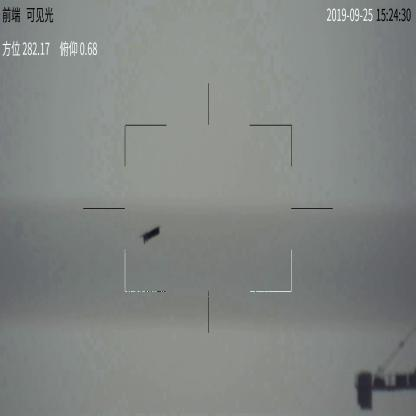uav: (137, 225, 158, 243)
